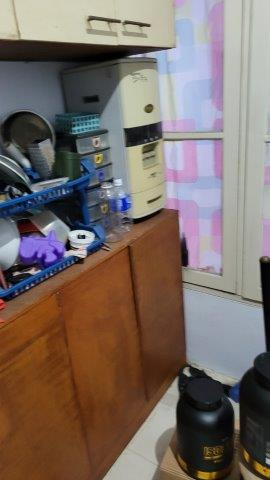botolplastik: (115, 178, 133, 229), (100, 183, 116, 240)
